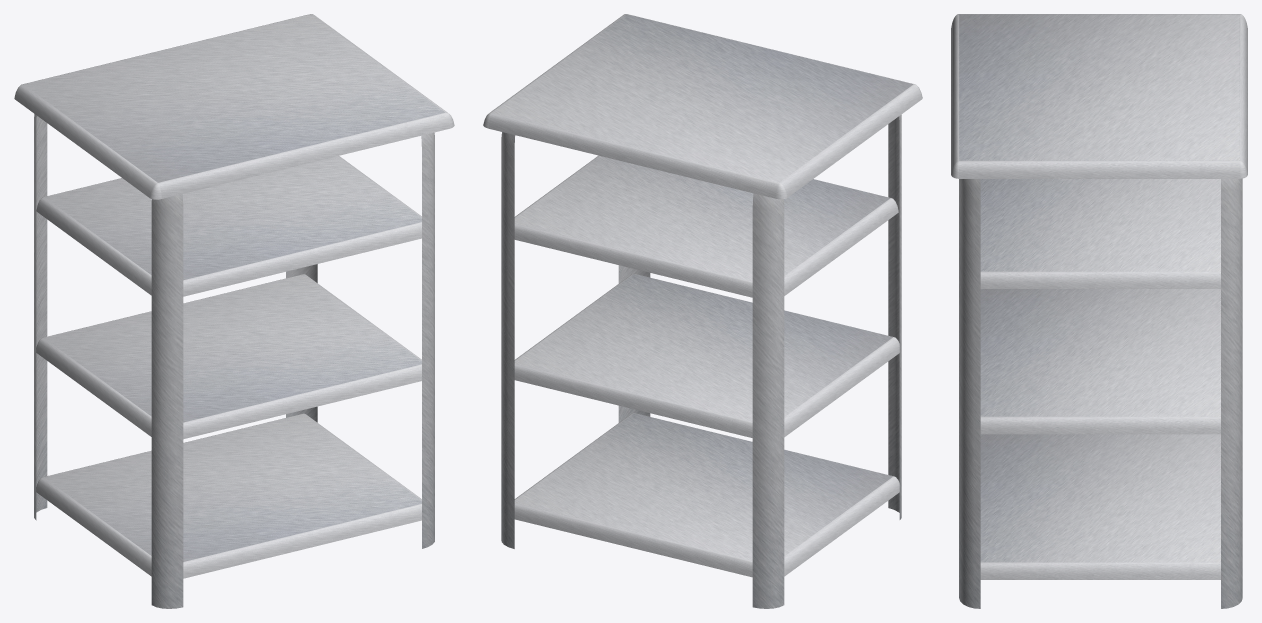
Rendered from Podstavka.fbx.
3 renders of one model, left to right at view 1: azimuth 30°, elevation 25°; view 2: azimuth 150°, elevation 25°; view 3: azimuth 270°, elevation 25°, orthographic. The views are drawn at different scales.
Parts seen in each view (by area): view 1: Объект_Куб_1, Объект_Куб_3, Объект_Куб_2, Объект_Куб_4, Объект_Куб; view 2: Объект_Куб_1, Объект_Куб_3, Объект_Куб_2, Объект_Куб_4, Объект_Куб; view 3: Объект_Куб_1, Объект_Куб_3, Объект_Куб_2, Объект_Куб_4, Объект_Куб.
Boxes of the visible parts, x1,y1,x2,y2 form: Объект_Куб_1: [14, 14, 454, 199]; Объект_Куб_3: [36, 413, 421, 578]; Объект_Куб_2: [36, 274, 421, 439]; Объект_Куб_4: [36, 156, 421, 296]; Объект_Куб: [34, 114, 434, 608]; Объект_Куб_1: [483, 14, 922, 199]; Объект_Куб_3: [514, 413, 899, 577]; Объект_Куб_2: [514, 273, 899, 437]; Объект_Куб_4: [514, 155, 898, 297]; Объект_Куб: [501, 114, 901, 608]; Объект_Куб_1: [951, 14, 1247, 178]; Объект_Куб_3: [980, 434, 1220, 579]; Объект_Куб_2: [980, 289, 1220, 434]; Объект_Куб_4: [980, 179, 1220, 288]; Объект_Куб: [959, 178, 1242, 608].
Bounding box in the file's own units: 403 × 546 × 327.
Materials: 1 (1 with a texture image).
